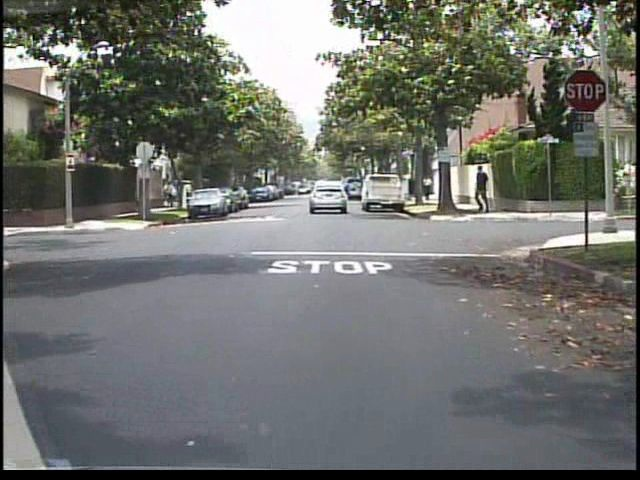person: (470, 162, 496, 219), (419, 171, 436, 204), (162, 179, 180, 208), (182, 177, 197, 207)
